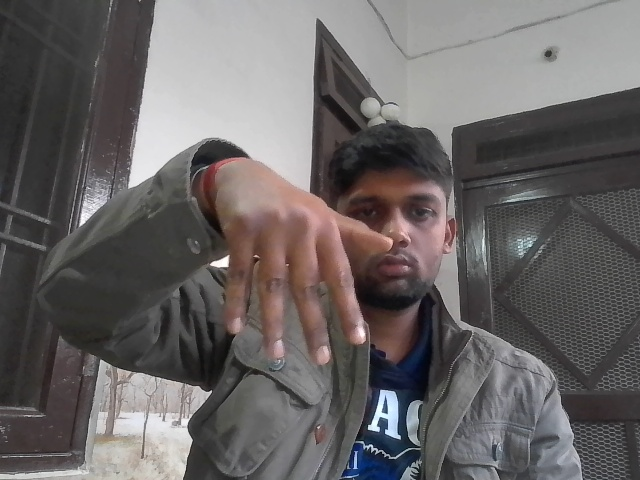HowAreYou: (204, 153, 406, 386)
